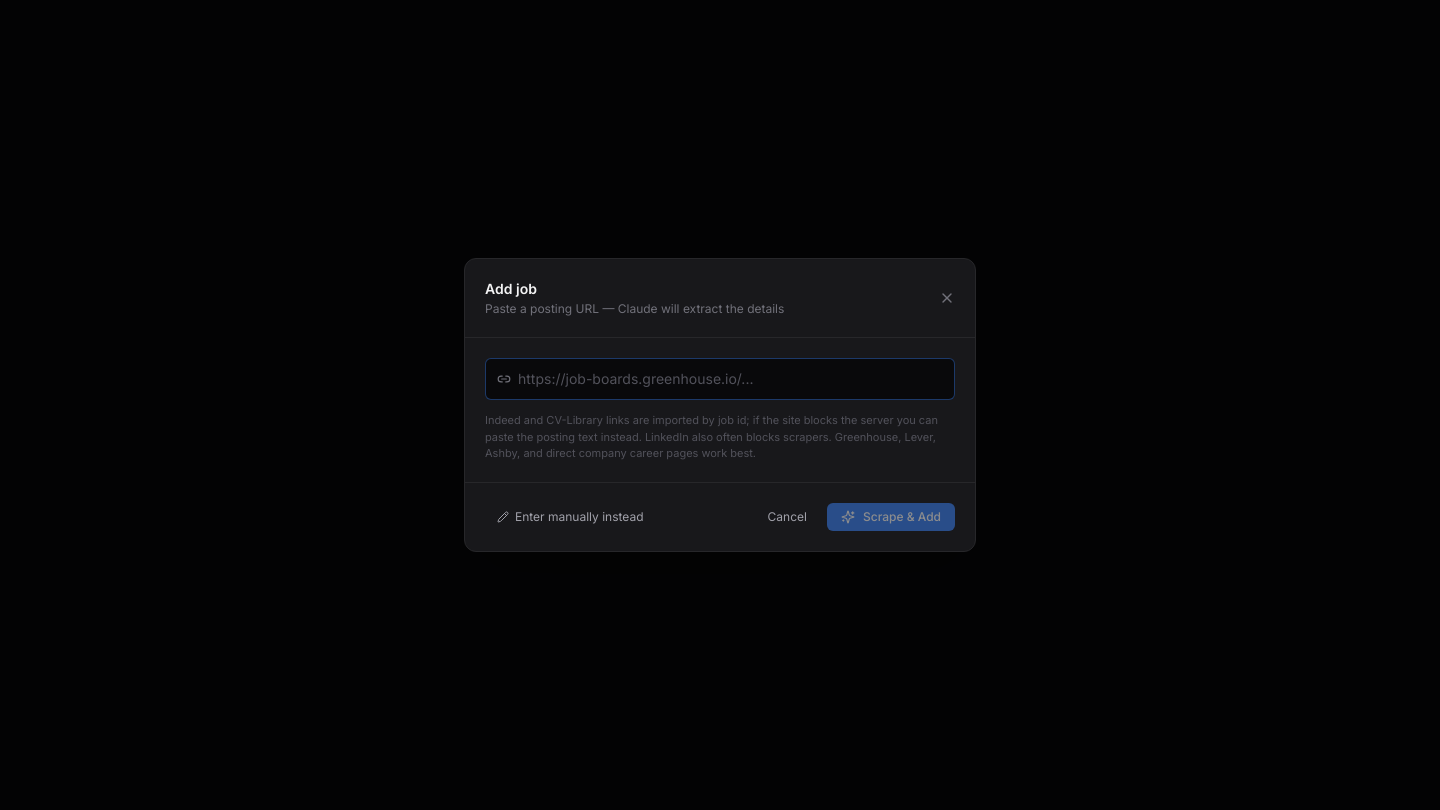
AddFromUrlModal + API client › links to the existing job on a duplicate import
Type "https://www.cv-library.co.uk/job/1" into the field with placeholder "https://job-boards.greenhouse.io/..." at point(720, 379), box x1=485 y1=358 x2=955 y2=400
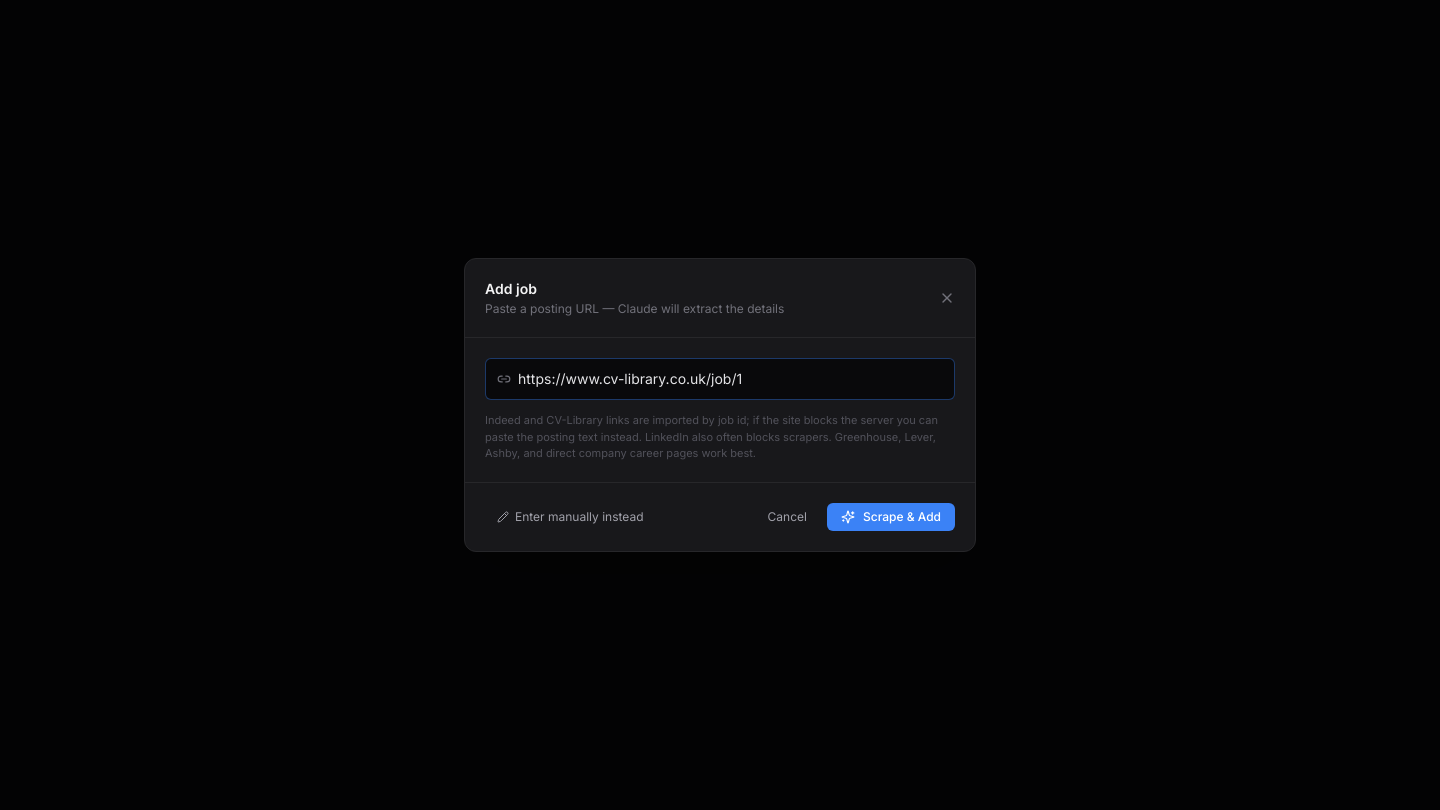
Click the button "Scrape & Add" at point(891, 517), box x1=827 y1=503 x2=955 y2=531
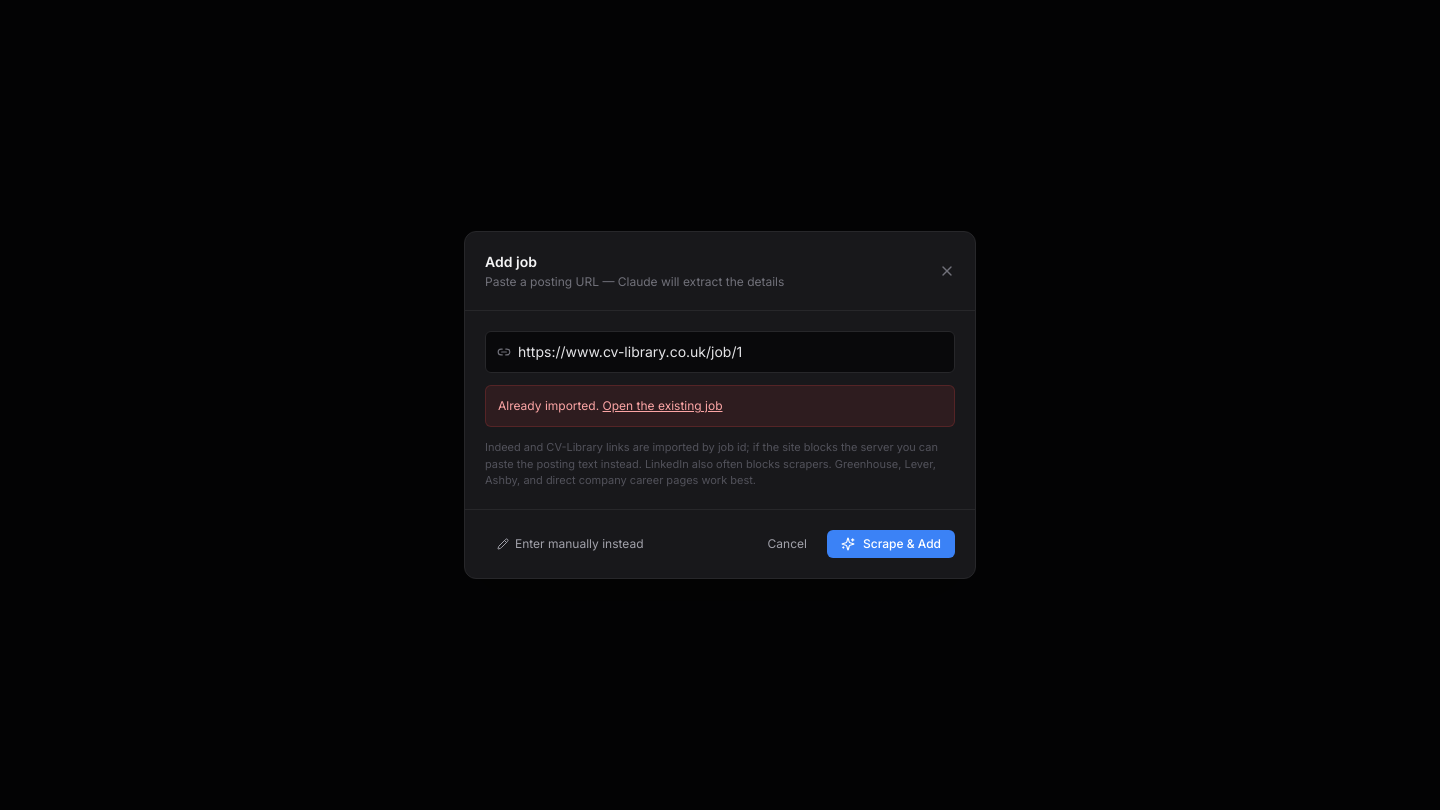
Expected: the text "Already imported. Open the existing job" is shown, x1=485 y1=385 x2=955 y2=427
